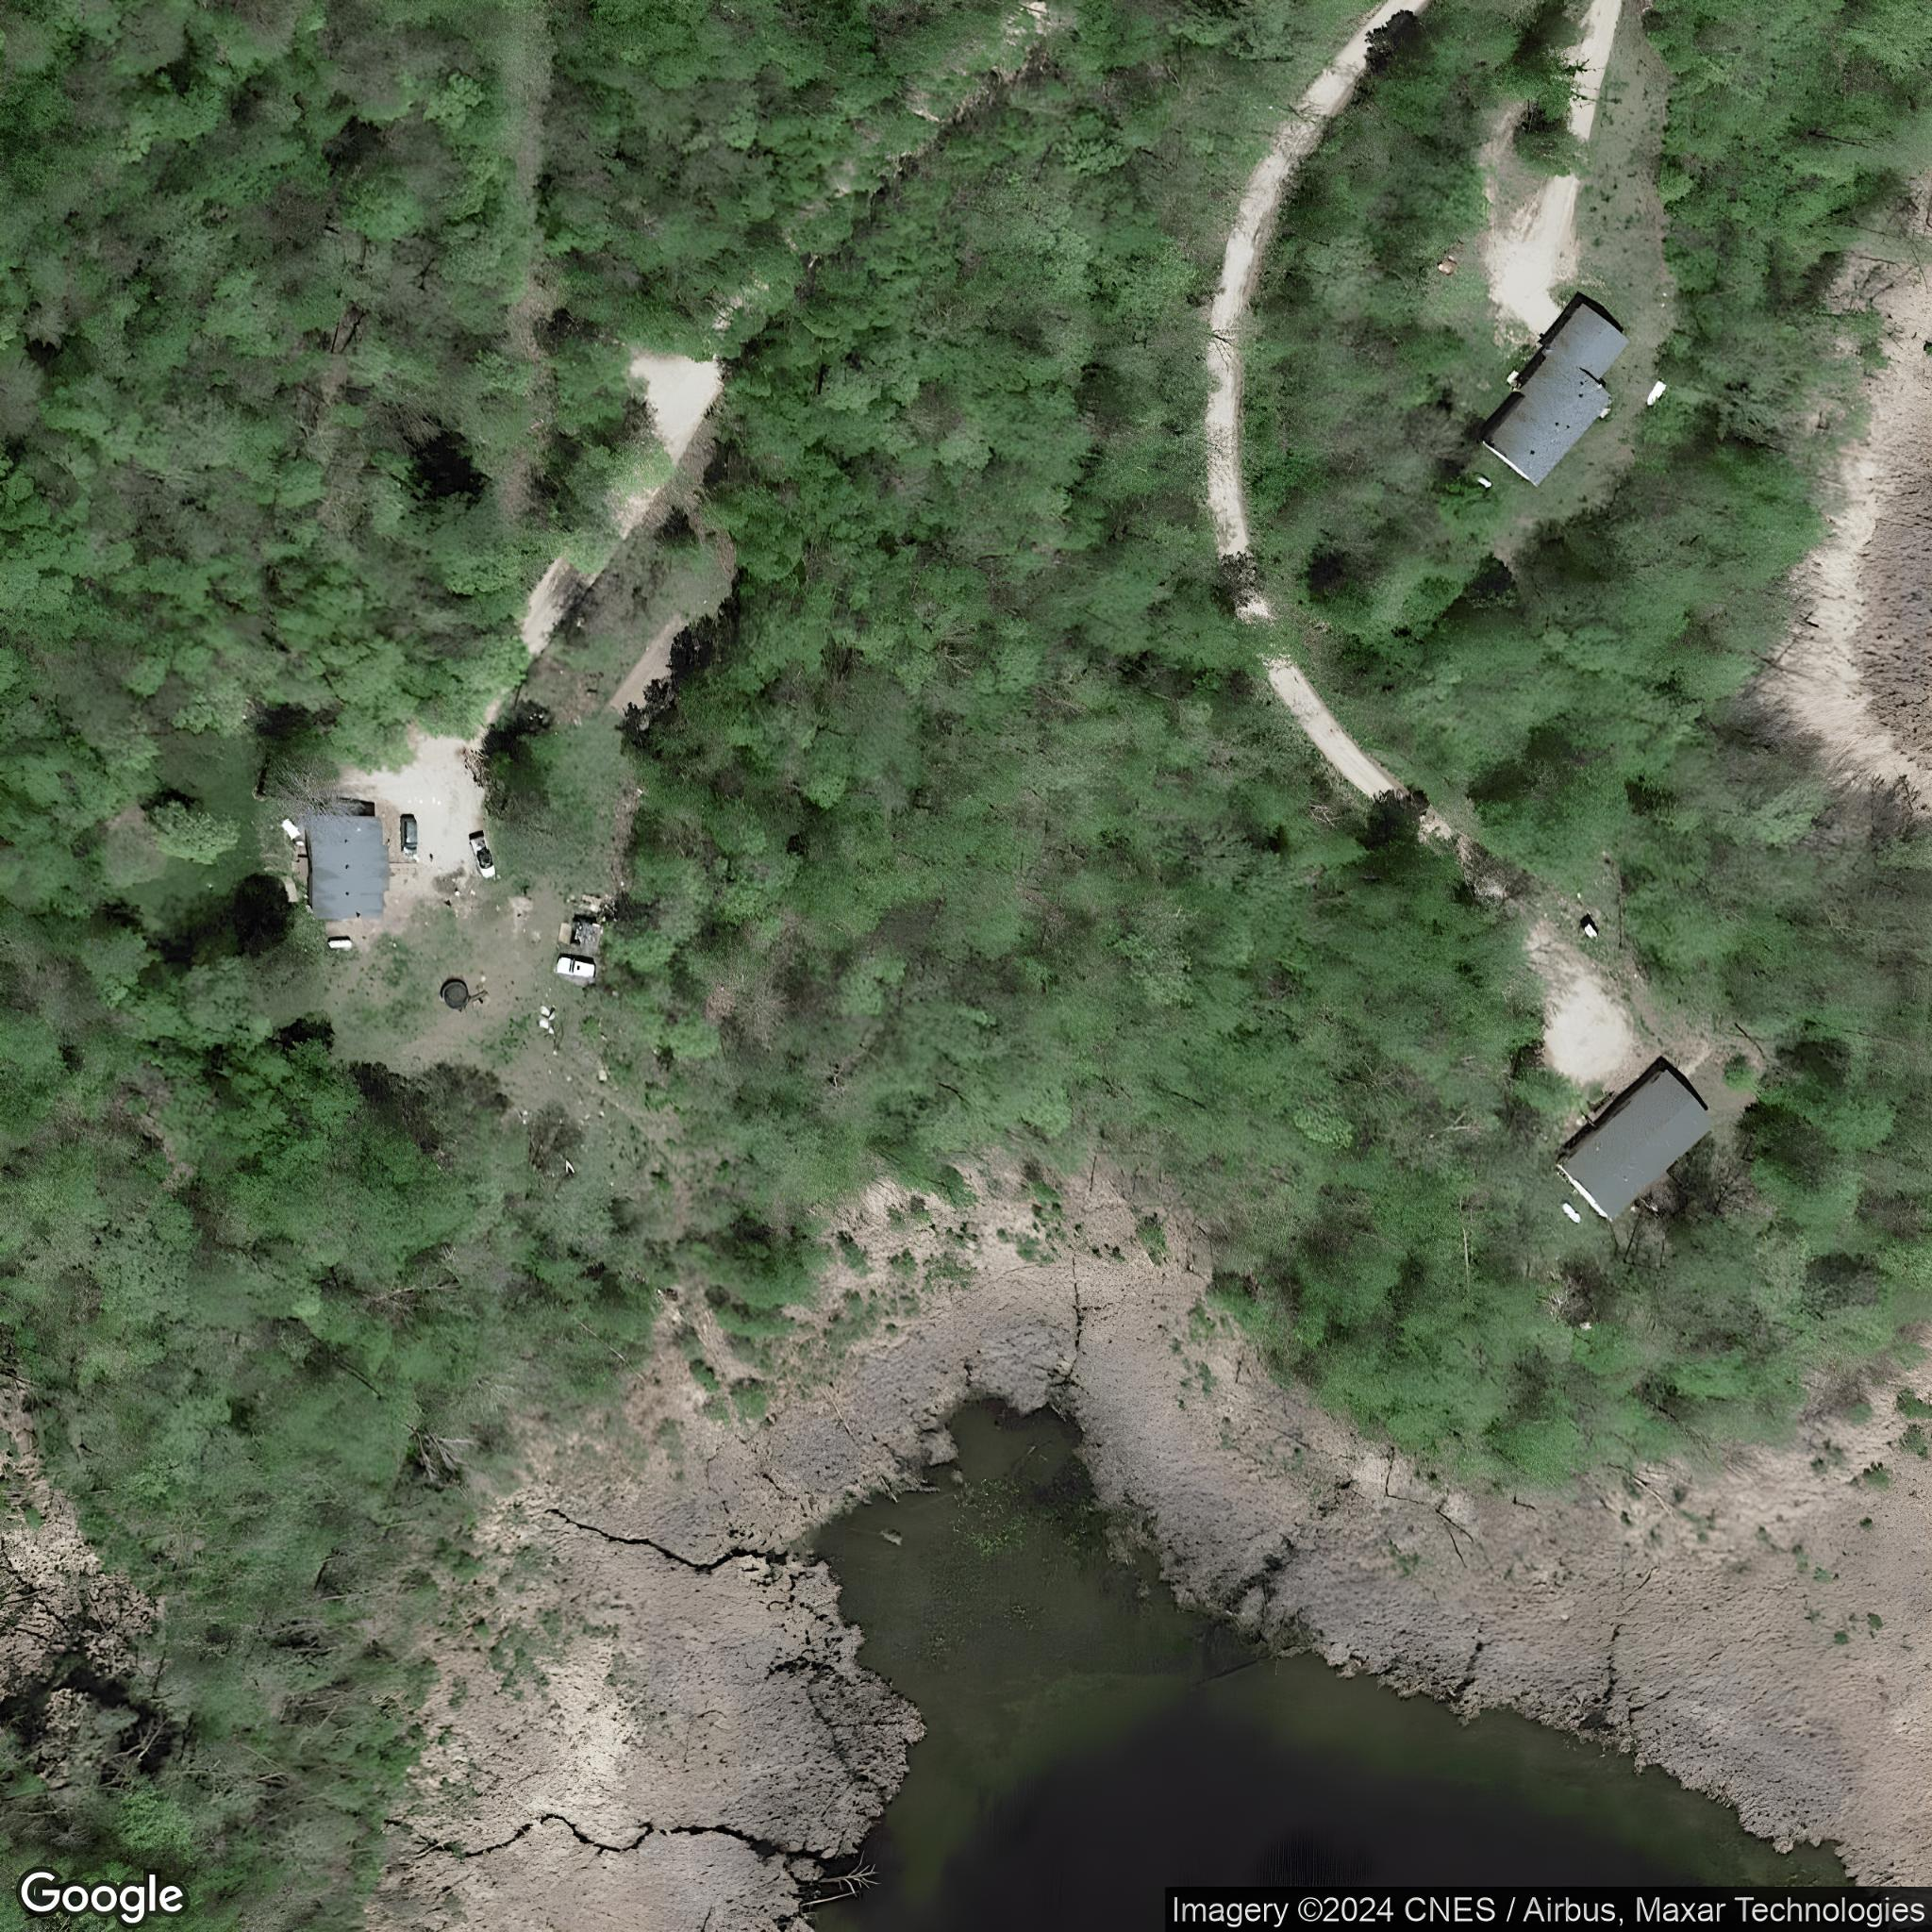House: (1477, 299, 1631, 492), (1553, 1069, 1714, 1226), (306, 816, 389, 924)
Propane: (1555, 1200, 1585, 1228), (1468, 467, 1499, 492), (322, 934, 354, 952)
